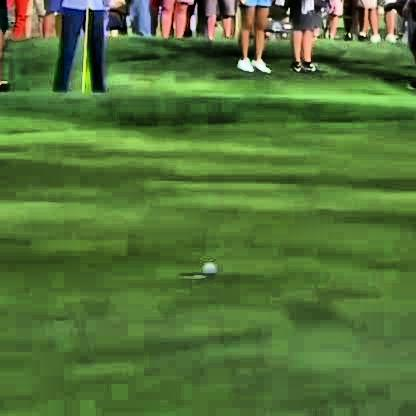golfball: (199, 259, 215, 275)
